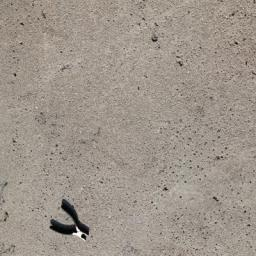FOD: (47, 199, 98, 248)
